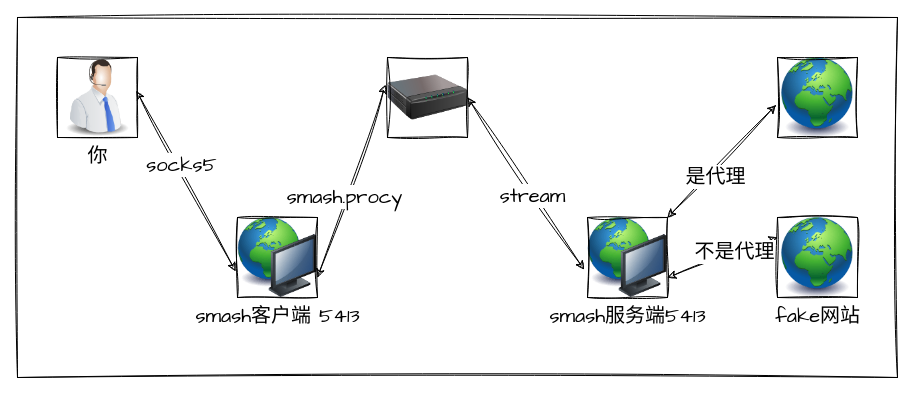
The diagram is 915 pixels wide and 395 high, and some of its shapes have lost their labels. Each missing label, with the box of its shape:
nginx ssl 443: (387, 57, 467, 137)
嘿嘿嘿~~: (777, 57, 857, 137)
